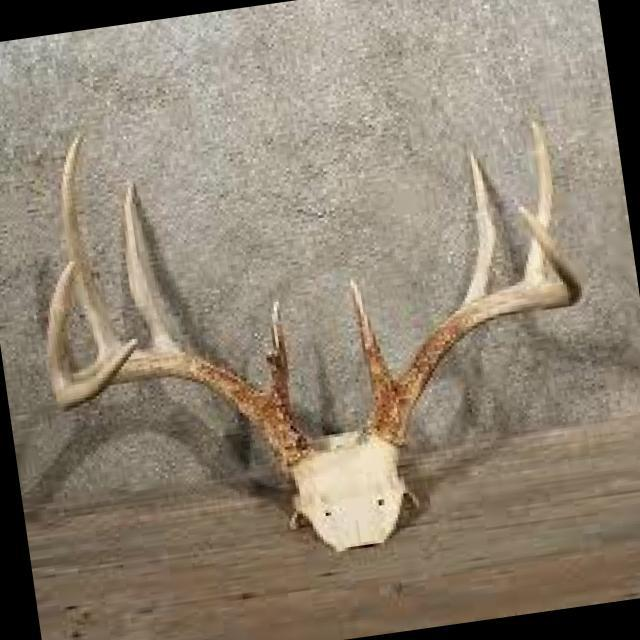E1: (45, 260, 76, 392)
L-F: (373, 204, 582, 444)
L-G1: (349, 279, 397, 406)
L-G2: (463, 152, 497, 303)
R-F: (55, 339, 312, 466)
R-G1: (267, 301, 291, 413)
R-G2: (123, 183, 180, 350)
R-G3: (61, 131, 125, 361)
